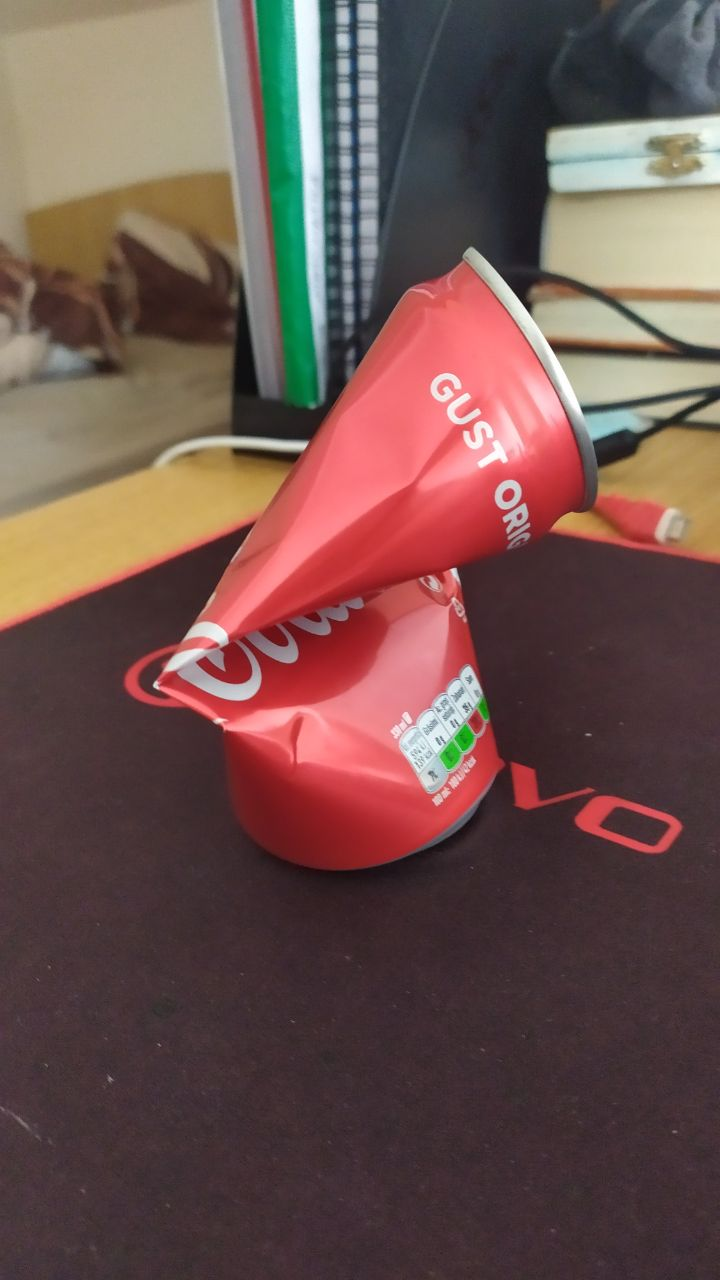Can: (147, 233, 607, 879)
